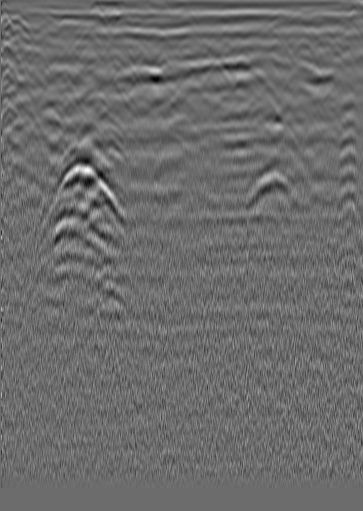가스: (42, 210, 110, 248)
상수: (333, 38, 353, 58)
우수: (220, 45, 240, 65)
